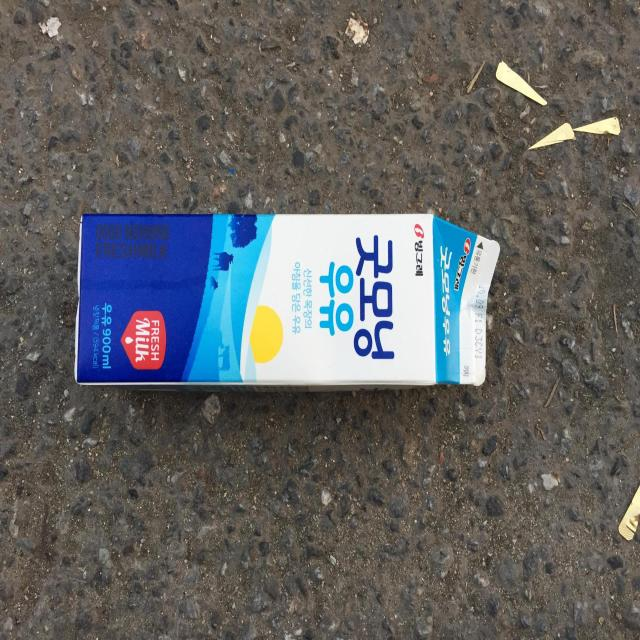paperpack: (74, 214, 500, 389)
